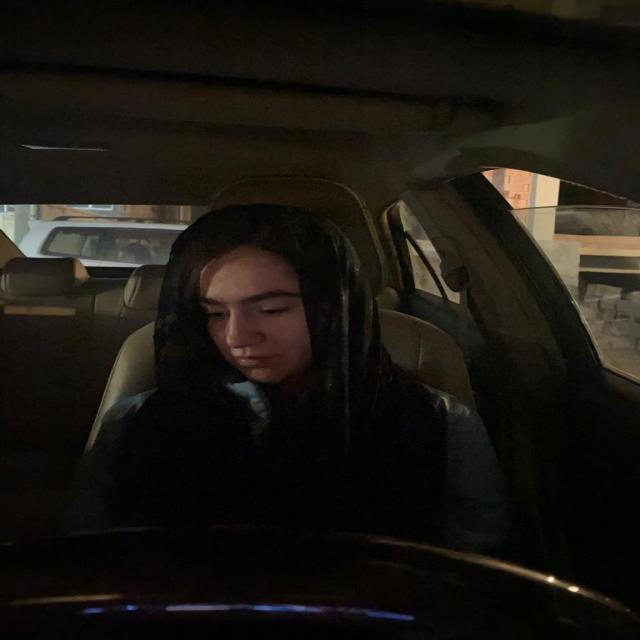drowsy: (166, 221, 362, 395)
